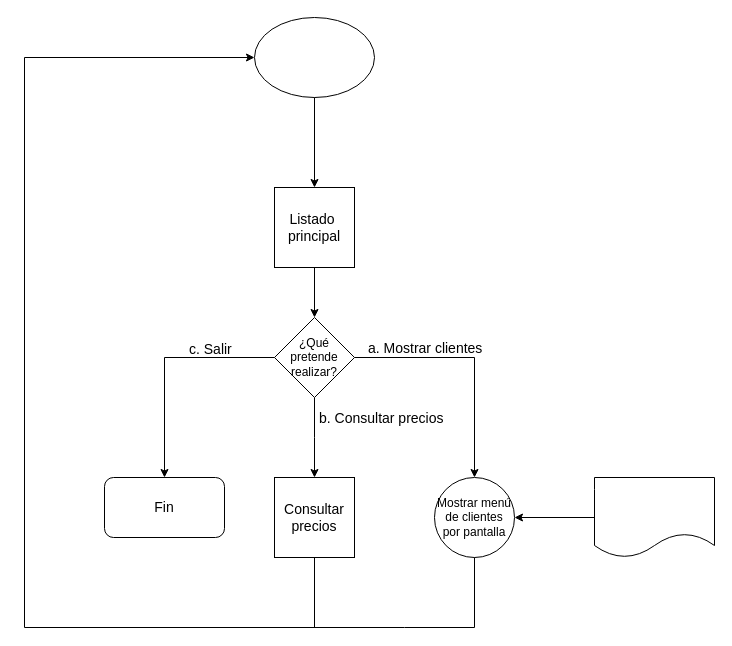
The diagram is 732 pixels wide and 646 high, and some of its shapes have lost their labels. The shapes that lost their labels are listed below. From the top down, each one's centre as x and y in pixels, then its label:
pixel 314 57: Comienzo
pixel 654 517: Fichero clientes.txt
